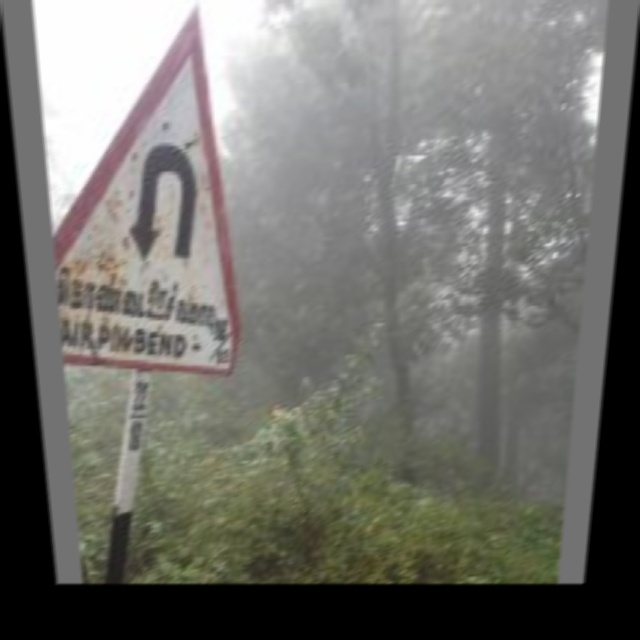Left_Hair_Pin_Bend: (91, 100, 248, 291)
